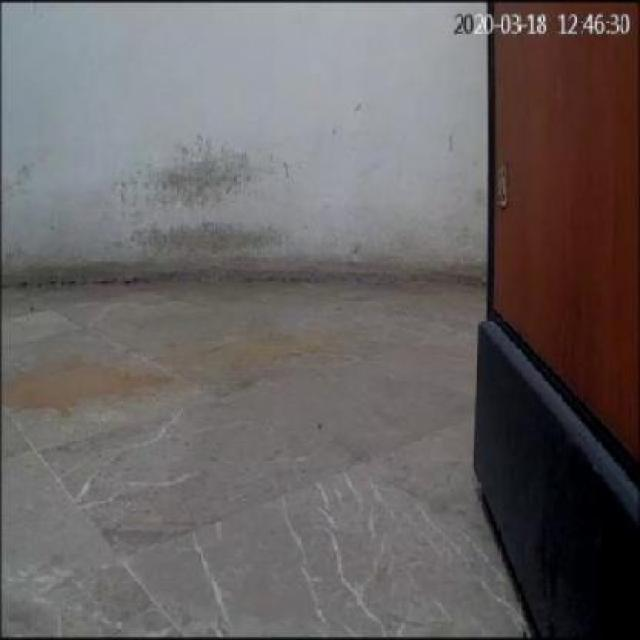spillage: (3, 362, 162, 413)
